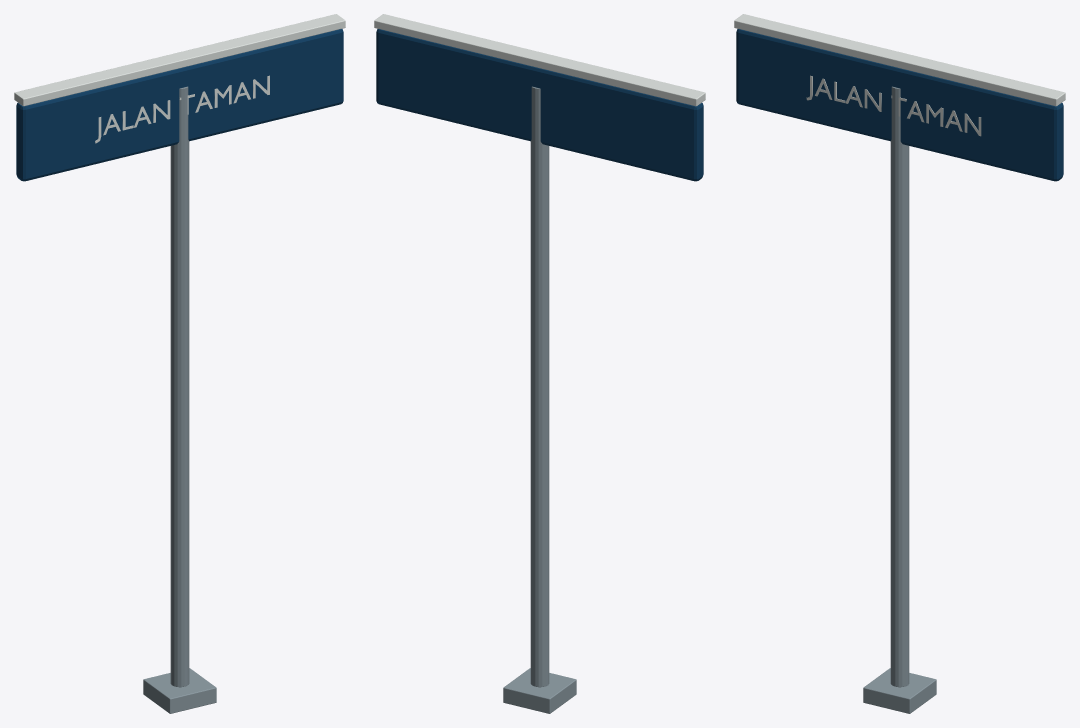
3 renders of one model, left to right at view 1: azimuth 30°, elevation 25°; view 2: azimuth 150°, elevation 25°; view 3: azimuth 330°, elevation 25°, orthographic.
Parts seen in each view (by area): view 1: SIGN_Panel, POST, SIGN_Edge, BASE, LETTER_Street; view 2: SIGN_Panel, POST, SIGN_Edge, BASE; view 3: SIGN_Panel, POST, SIGN_Edge, BASE, LETTER_Street.
Boxes of the visible parts, <box> form: SIGN_Panel: <box>16,29,343,181</box>; POST: <box>170,86,189,687</box>; SIGN_Edge: <box>14,14,345,106</box>; BASE: <box>143,668,216,713</box>; LETTER_Street: <box>95,75,269,143</box>; SIGN_Panel: <box>376,29,703,181</box>; POST: <box>530,86,549,687</box>; SIGN_Edge: <box>374,14,705,106</box>; BASE: <box>503,668,576,713</box>; SIGN_Panel: <box>736,29,1063,181</box>; POST: <box>890,86,909,687</box>; SIGN_Edge: <box>734,14,1065,106</box>; BASE: <box>863,668,936,713</box>; LETTER_Street: <box>806,75,981,136</box>.
Bounding box in the file's own units: 1.1 × 2.09 × 0.16.
